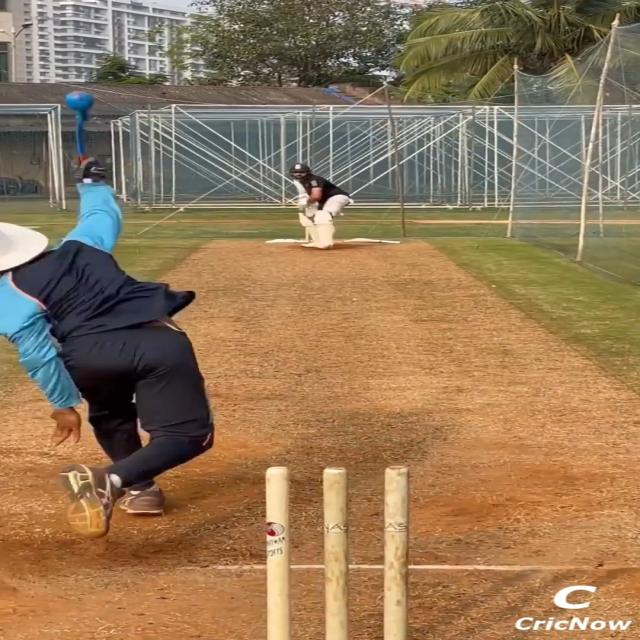stump: (257, 460, 413, 640)
